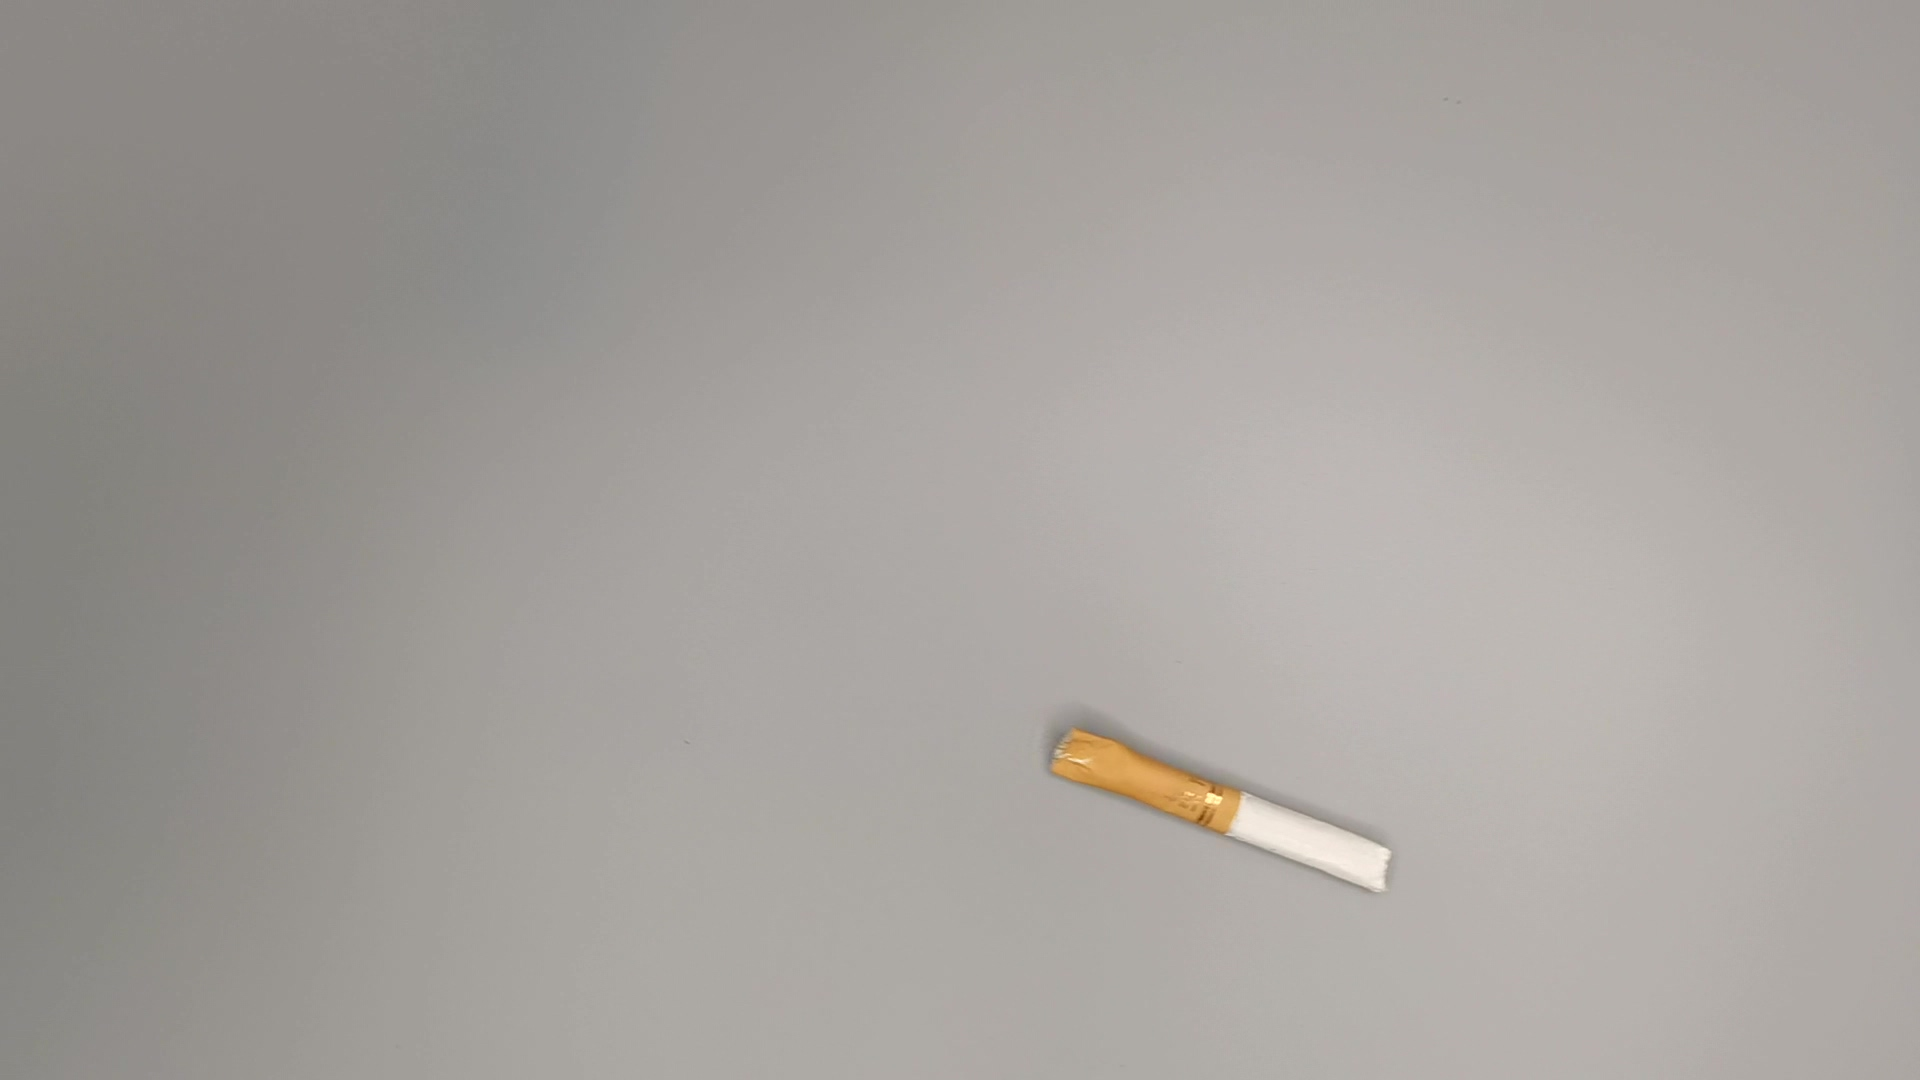cigarette: (1034, 723, 1399, 901)
